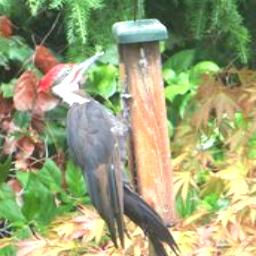Woodpecker: (36, 50, 182, 256)
